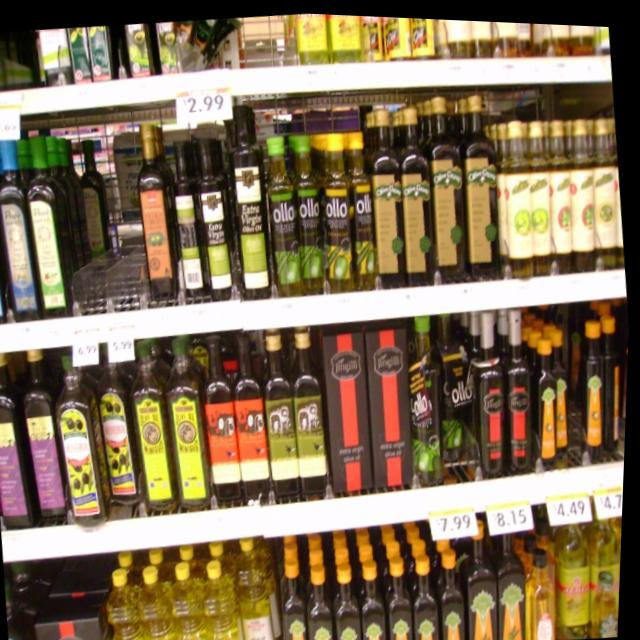q70: (47, 341, 115, 525), (95, 344, 149, 509)
q97: (223, 95, 286, 302), (184, 127, 249, 312), (163, 137, 220, 298)
